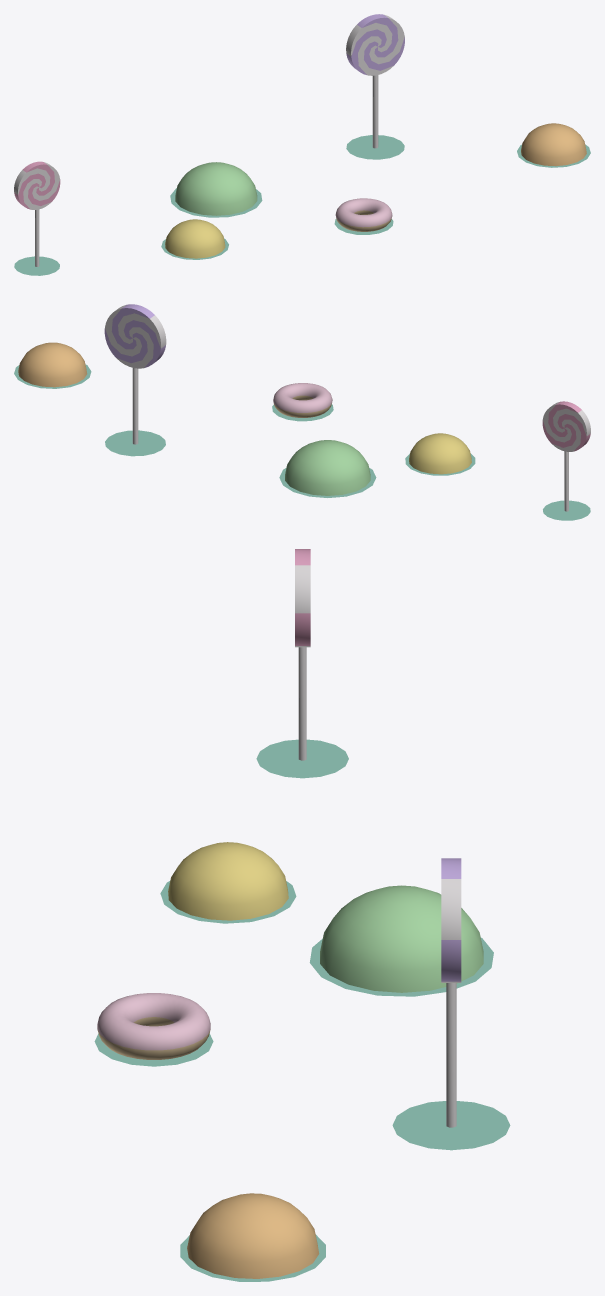
Rendered from candy-near.glb.
3 renders of one model, top to bottom at view 1: azimuth 30°, elevation 25°; view 2: azimuth 150°, elevation 25°; view 3: azimuth 270°, elevation 25°, orthographic. The views are drawn at different scales.
Visible parts, largest first — view 1: candy-near; view 2: candy-near; view 3: candy-near.
Part boxes in pixels (x1,y1,x2,y2): candy-near: (14,14,590,275); candy-near: (14,304,590,520); candy-near: (94,549,510,1281).
Size of the model in its own units: 51.92 by 11.66 by 16.78.
